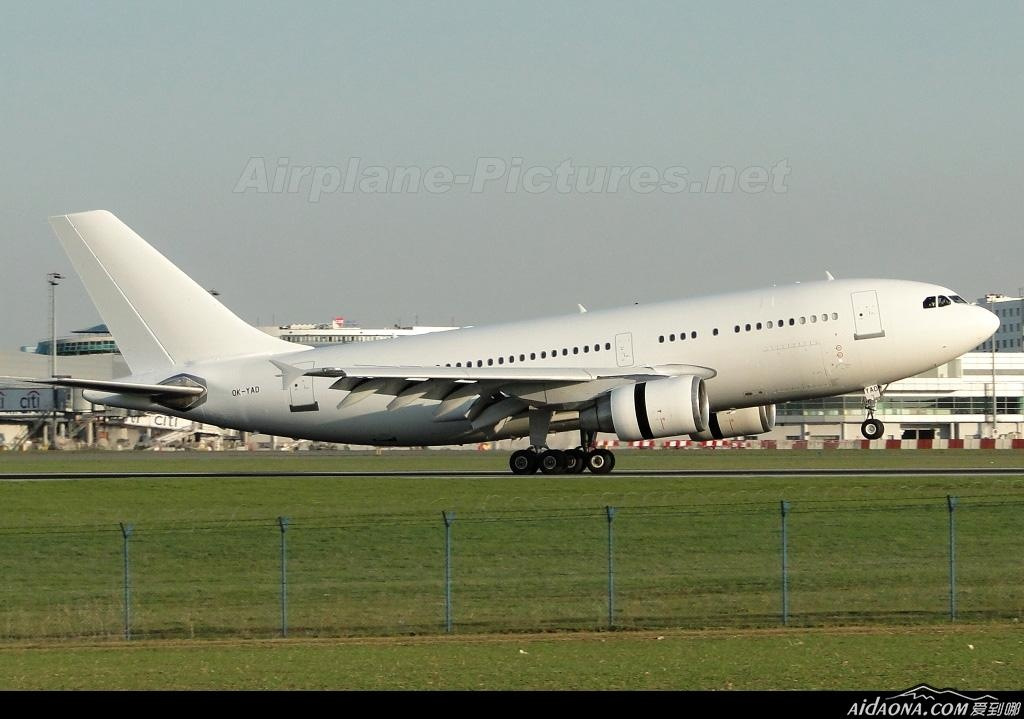airplane: (24, 202, 1001, 453)
